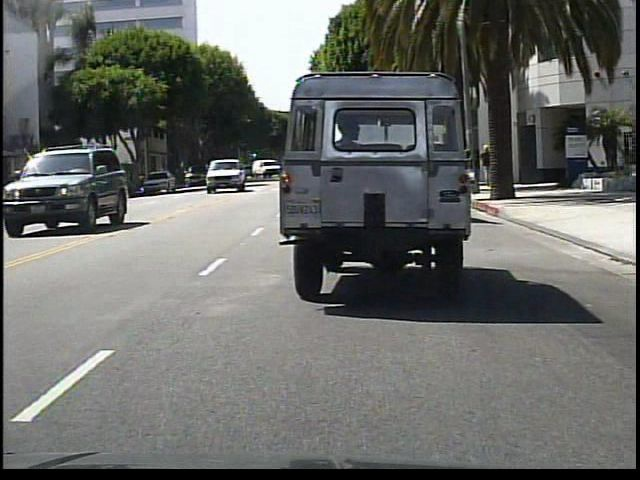person: (479, 144, 491, 185)
